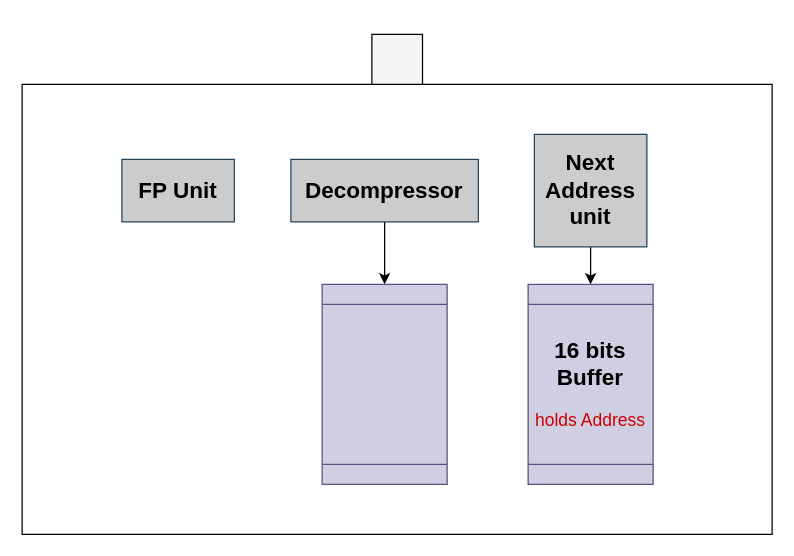
This 794x556 diagram has some shape labels left out. Each missing label, with the centre of its shape:
32 bits Buffer holds Data: the point at 384,383
I/O: the point at 396,58
